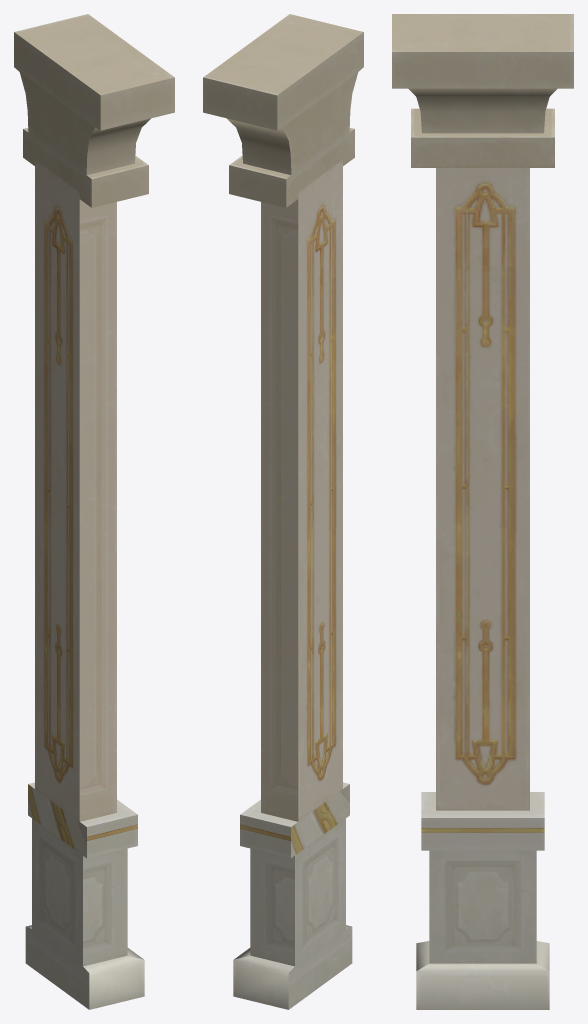
File: Homeworld_Interior_Fd_Room_Pillar_02_Vo.fbx
The picture shows the model from 3 angles, left to right: view 1: azimuth 30°, elevation 25°; view 2: azimuth 150°, elevation 25°; view 3: azimuth 270°, elevation 25°; orthographic projection. The views are drawn at different scales.
Visible parts, largest first — view 1: Homeworld_Interior_Fd_Room_Pillar_02_Vo; view 2: Homeworld_Interior_Fd_Room_Pillar_02_Vo; view 3: Homeworld_Interior_Fd_Room_Pillar_02_Vo.
Part boxes in pixels (bbox=[...]): Homeworld_Interior_Fd_Room_Pillar_02_Vo: bbox=[14, 14, 174, 1009]; Homeworld_Interior_Fd_Room_Pillar_02_Vo: bbox=[203, 14, 363, 1009]; Homeworld_Interior_Fd_Room_Pillar_02_Vo: bbox=[392, 14, 573, 1009].
Size of the model in its own units: 0.4204 by 5.01 by 0.8525.
